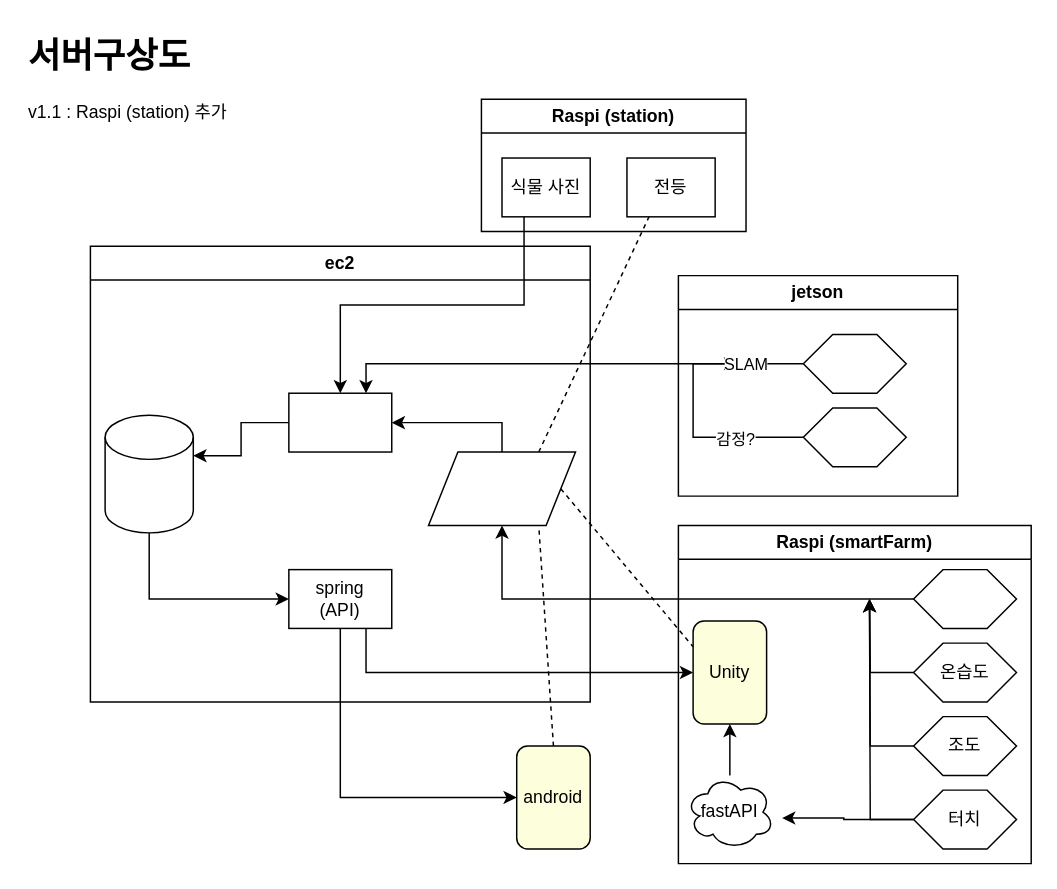
Some shapes in this 1057 by 889 pixel diagram are drawn without their labels. The centre of each missing label's shape, as x and y in pixels:
Camera: the point at 854,436
DB: the point at 148,473
fastAPI (write): the point at 339,422
LiDAR: the point at 854,363
MQTT broker: the point at 501,488
토양습도: the point at 964,598
